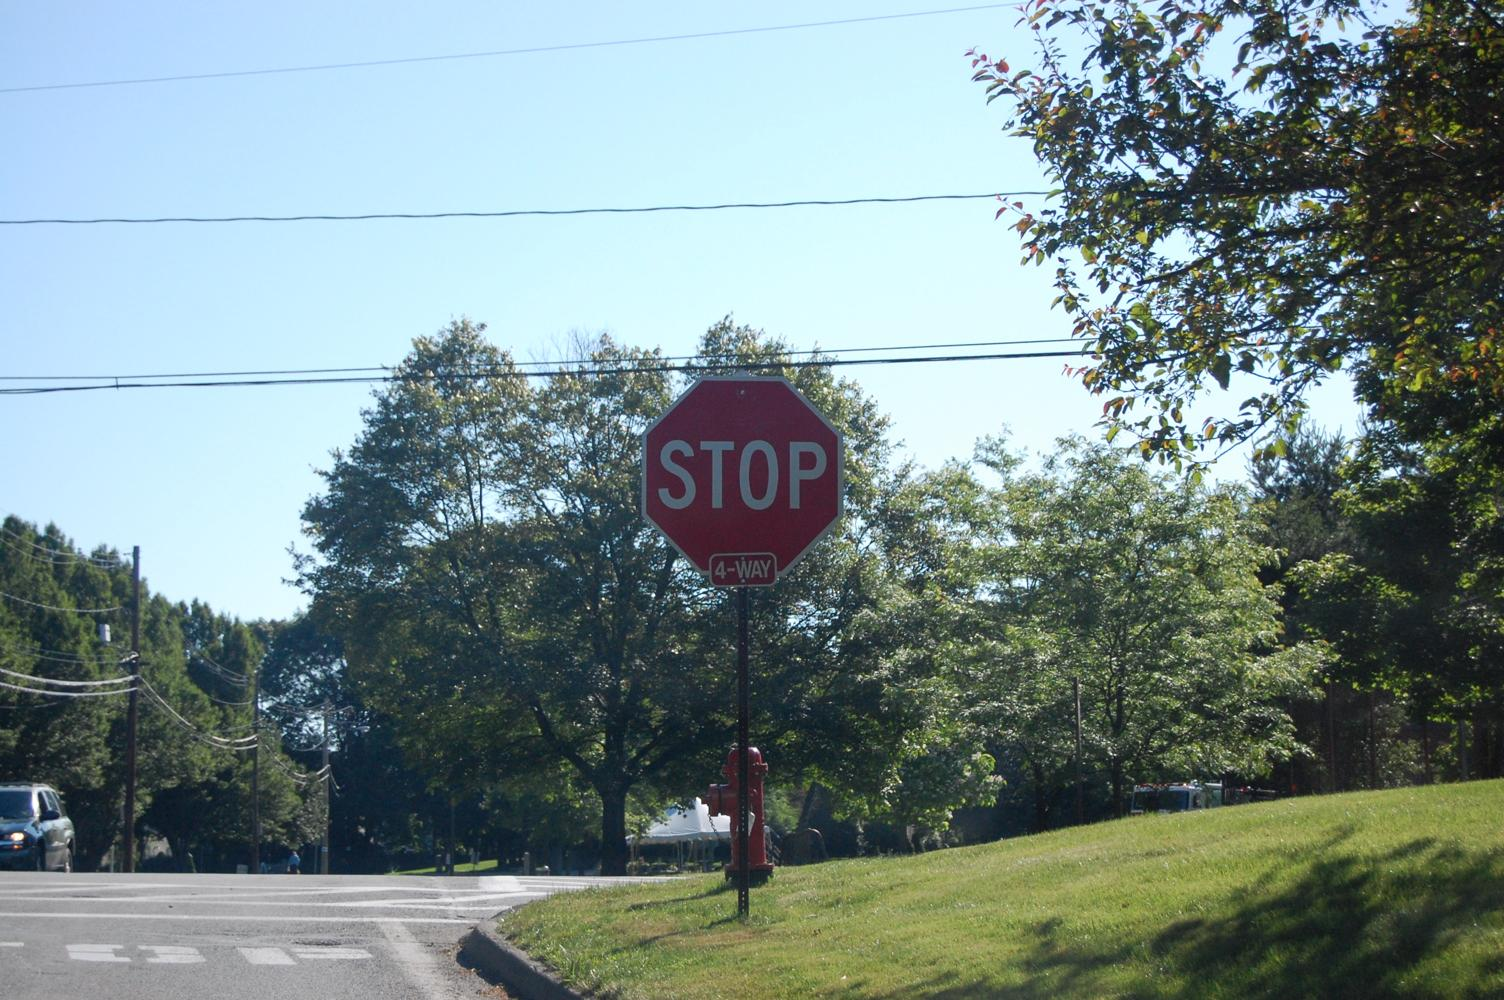stop: (640, 379, 839, 595)
